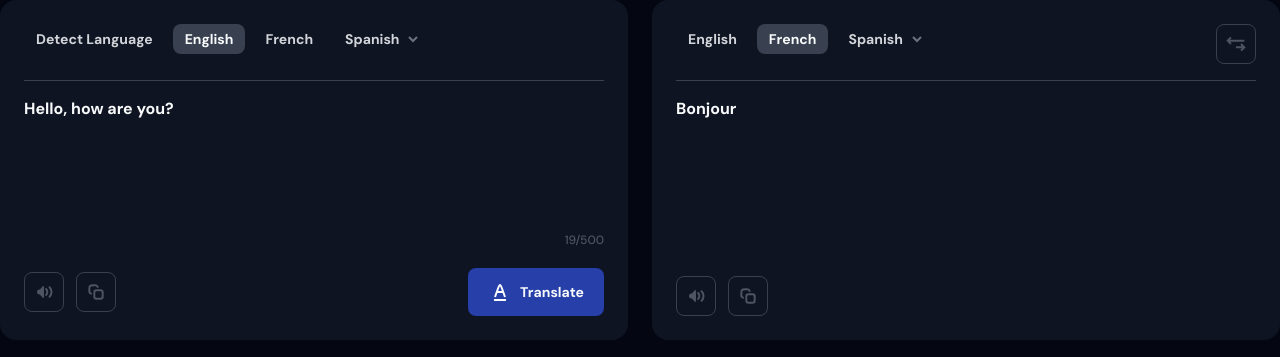
TranslateForm › clears the output when the input is emptied
This screenshot has width=1280, height=357.
Expected: the text "Bonjour" is shown, [676,98,736,119]
Clear the text box named "Translate from" at [314, 158], box [24,97,604,220]
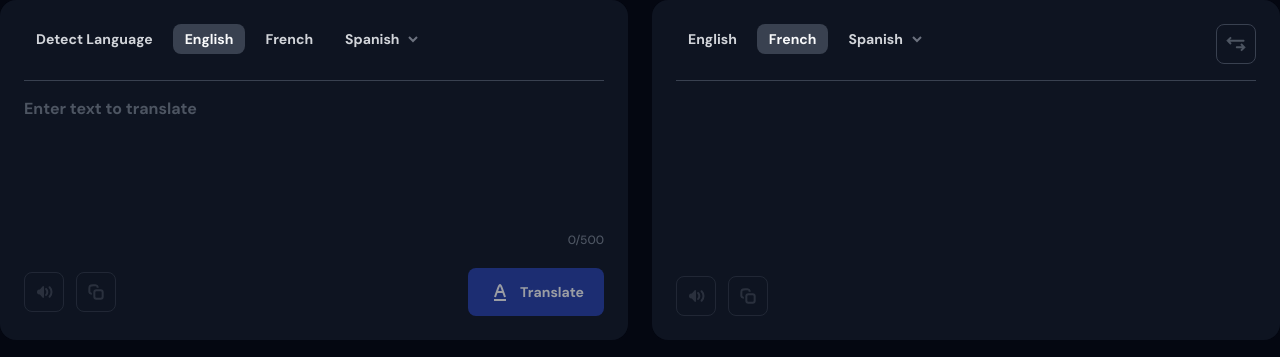
Result: the text "Bonjour" is gone
Result: the button "Translate" is disabled at [468,268,604,316]
